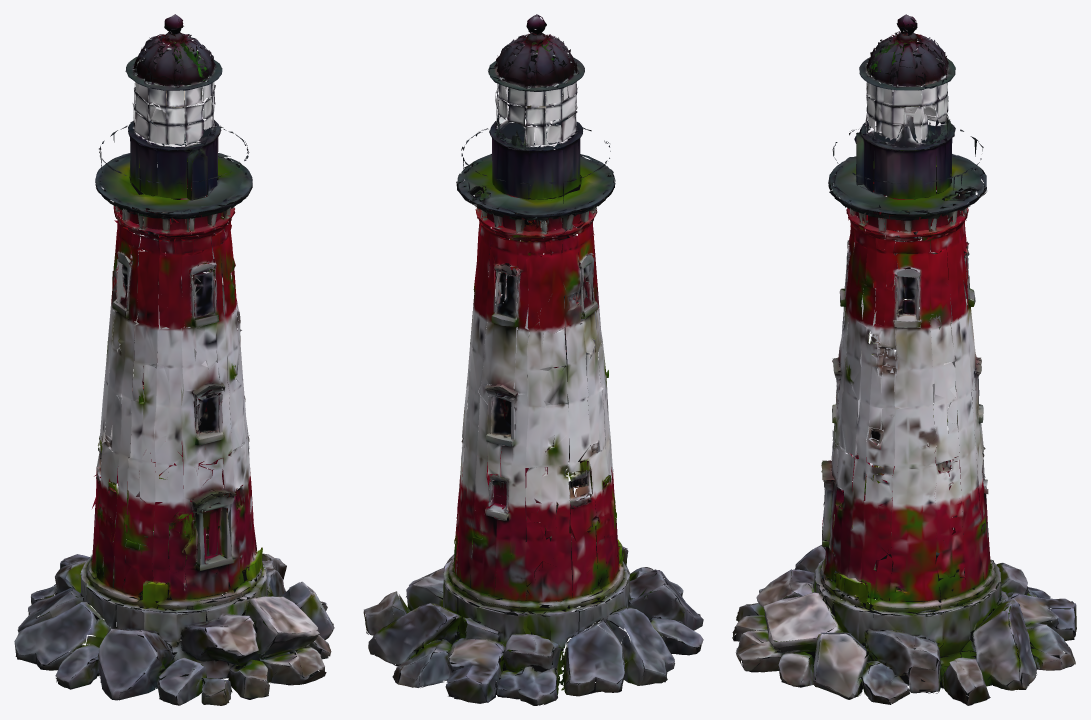
The model's file is lighthouse.glb.
The picture shows the model from 3 angles, left to right: view 1: azimuth 30°, elevation 25°; view 2: azimuth 150°, elevation 25°; view 3: azimuth 270°, elevation 25°; orthographic projection.
Parts seen in each view (by area): view 1: lighthouse_body; view 2: lighthouse_body; view 3: lighthouse_body.
Boxes of the visible parts, x1,y1,x2,y2 form: lighthouse_body: (14, 14, 334, 705); lighthouse_body: (363, 14, 703, 705); lighthouse_body: (732, 14, 1076, 705).
Size of the model in its own units: 14.48 by 30.1 by 15.03.
Materials: 1 (1 with a texture image).
